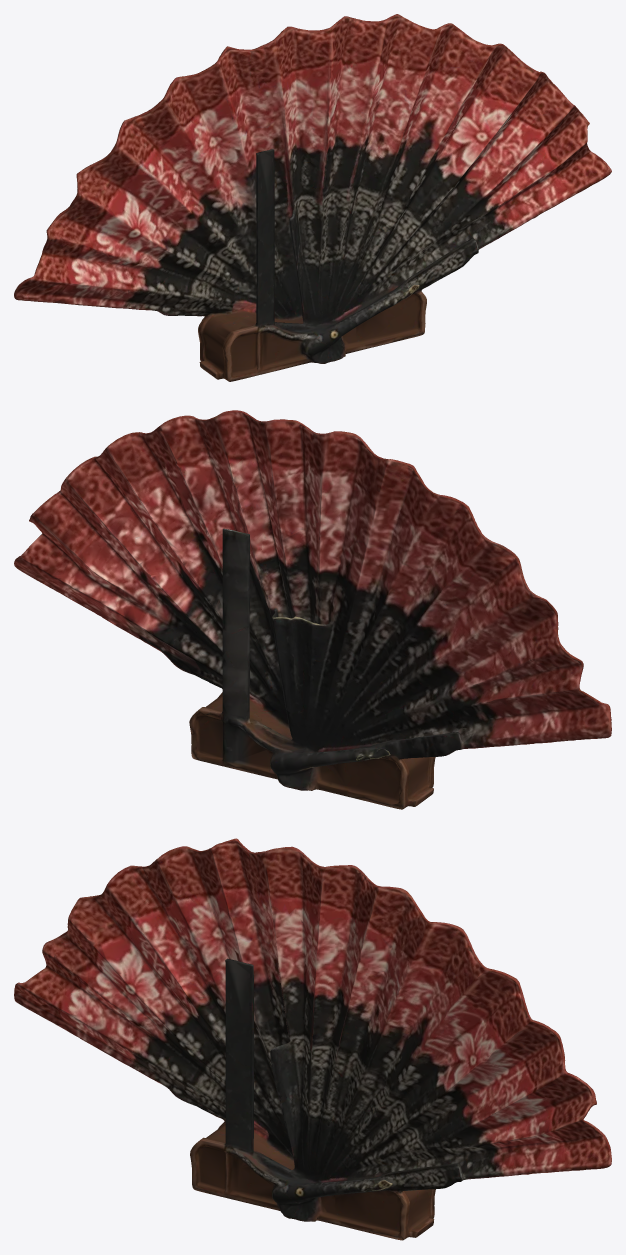
Rendered from 05-abanico.glb.
3 renders of one model, top to bottom at view 1: azimuth 30°, elevation 25°; view 2: azimuth 150°, elevation 25°; view 3: azimuth 330°, elevation 25°, orthographic. The views are drawn at different scales.
Size of the model in its own units: 1.9 by 1.03 by 0.2192.
1 material, 1 textured.
